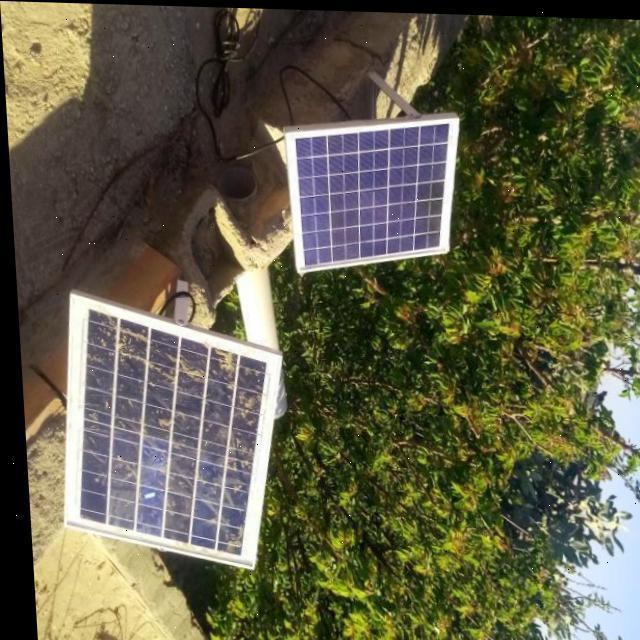Normal Solar Panel: (286, 110, 465, 272)
